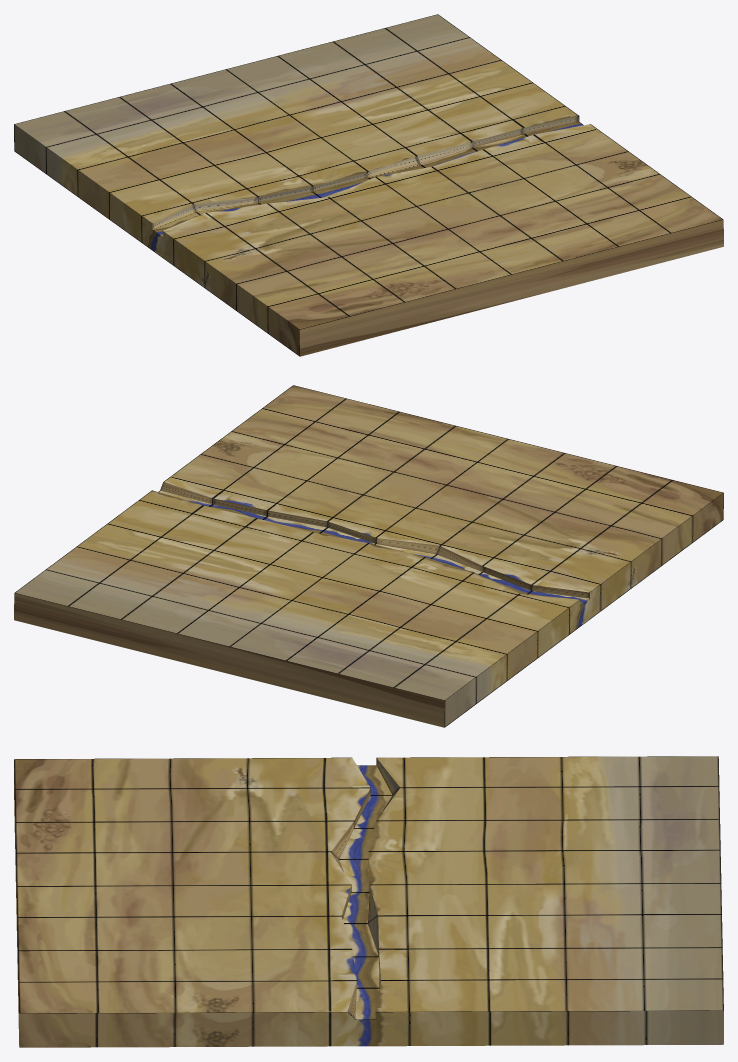
Rendered from Ban_Only.fbx.
3 views of the same model, one above another, from view 1: azimuth 30°, elevation 25°; view 2: azimuth 150°, elevation 25°; view 3: azimuth 270°, elevation 25° (orthographic). The views are drawn at different scales.
Visible parts, largest first — view 1: Dodai_Kari; view 2: Dodai_Kari; view 3: Dodai_Kari.
Boxes of the visible parts, bbox=[...] form: Dodai_Kari: bbox=[14, 14, 723, 356]; Dodai_Kari: bbox=[14, 385, 723, 727]; Dodai_Kari: bbox=[14, 756, 723, 1047].
Size of the model in its own units: 73.25 by 5.2 by 83.6.
